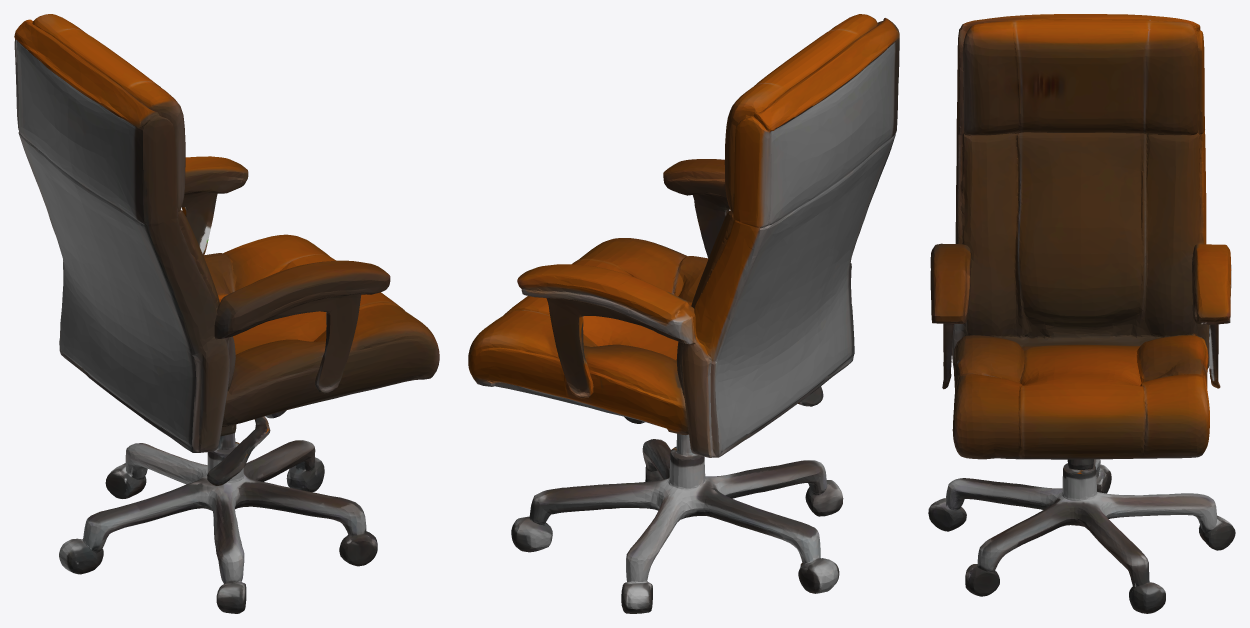
File: office_chair_12.glb
3 renders of one model, left to right at view 1: azimuth 30°, elevation 25°; view 2: azimuth 150°, elevation 25°; view 3: azimuth 270°, elevation 25°, orthographic. The views are drawn at different scales.
Visible parts, largest first — view 1: office_chair_12.obj; view 2: office_chair_12.obj; view 3: office_chair_12.obj.
Boxes of the visible parts, x1,y1,x2,y2 form: office_chair_12.obj: [14, 14, 439, 613]; office_chair_12.obj: [468, 14, 899, 613]; office_chair_12.obj: [928, 14, 1235, 613].
Size of the model in its own units: 0.6893 by 1.1 by 0.6383.
Materials: 1 (1 with a texture image).
